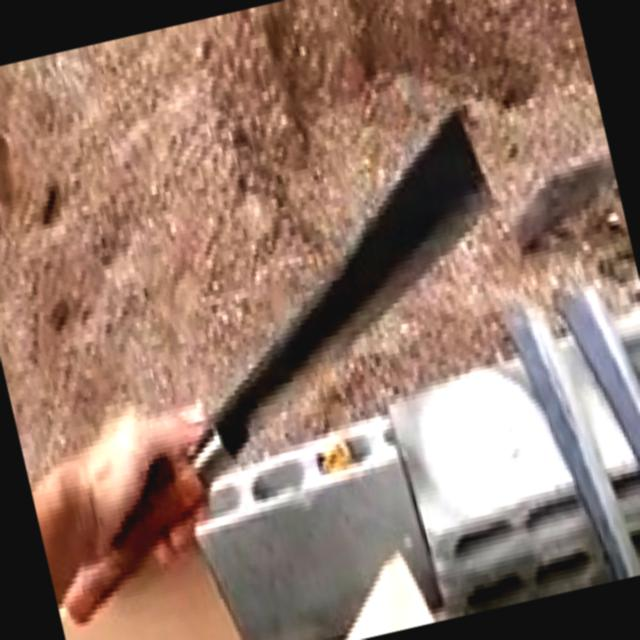eto: (60, 99, 499, 622)
